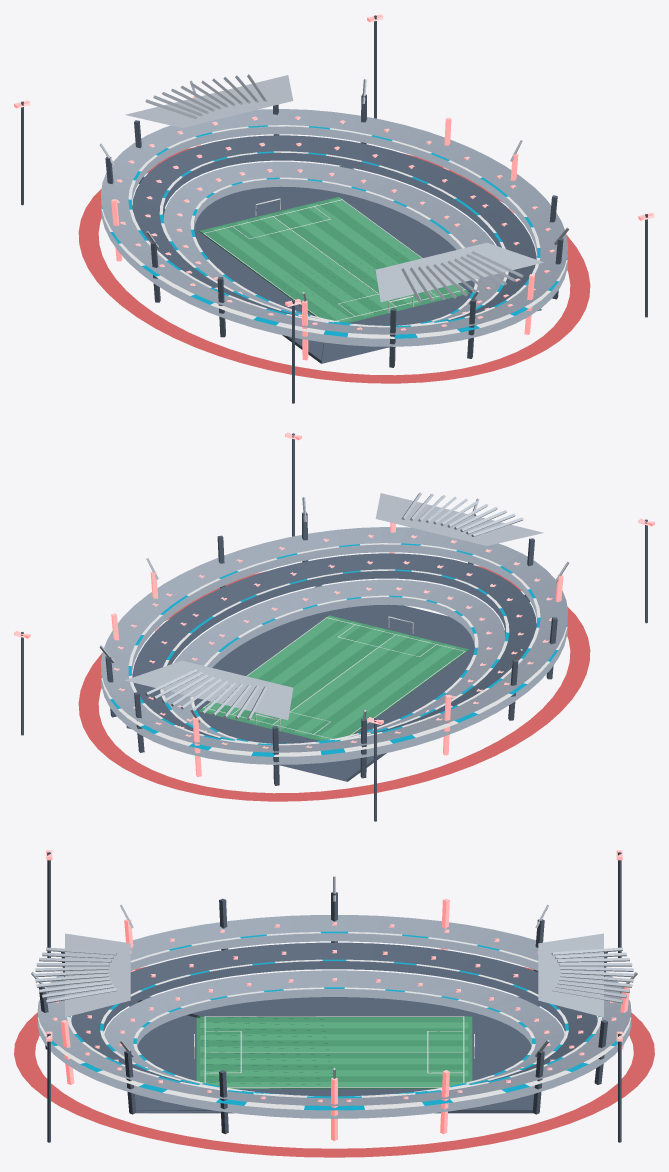
Rendered from nissan-stadium.glb.
3 renders of one model, top to bottom at view 1: azimuth 30°, elevation 25°; view 2: azimuth 150°, elevation 25°; view 3: azimuth 270°, elevation 25°, orthographic. The views are drawn at different scales.
Parts seen in each view (by area): view 1: Nissan Stadium; view 2: Nissan Stadium; view 3: Nissan Stadium.
Part boxes in pixels (x1,y1,x2,y2): Nissan Stadium: (14, 14, 654, 403); Nissan Stadium: (14, 432, 654, 821); Nissan Stadium: (14, 850, 654, 1157).
Size of the model in its own units: 70.65 by 17.65 by 90.67.
